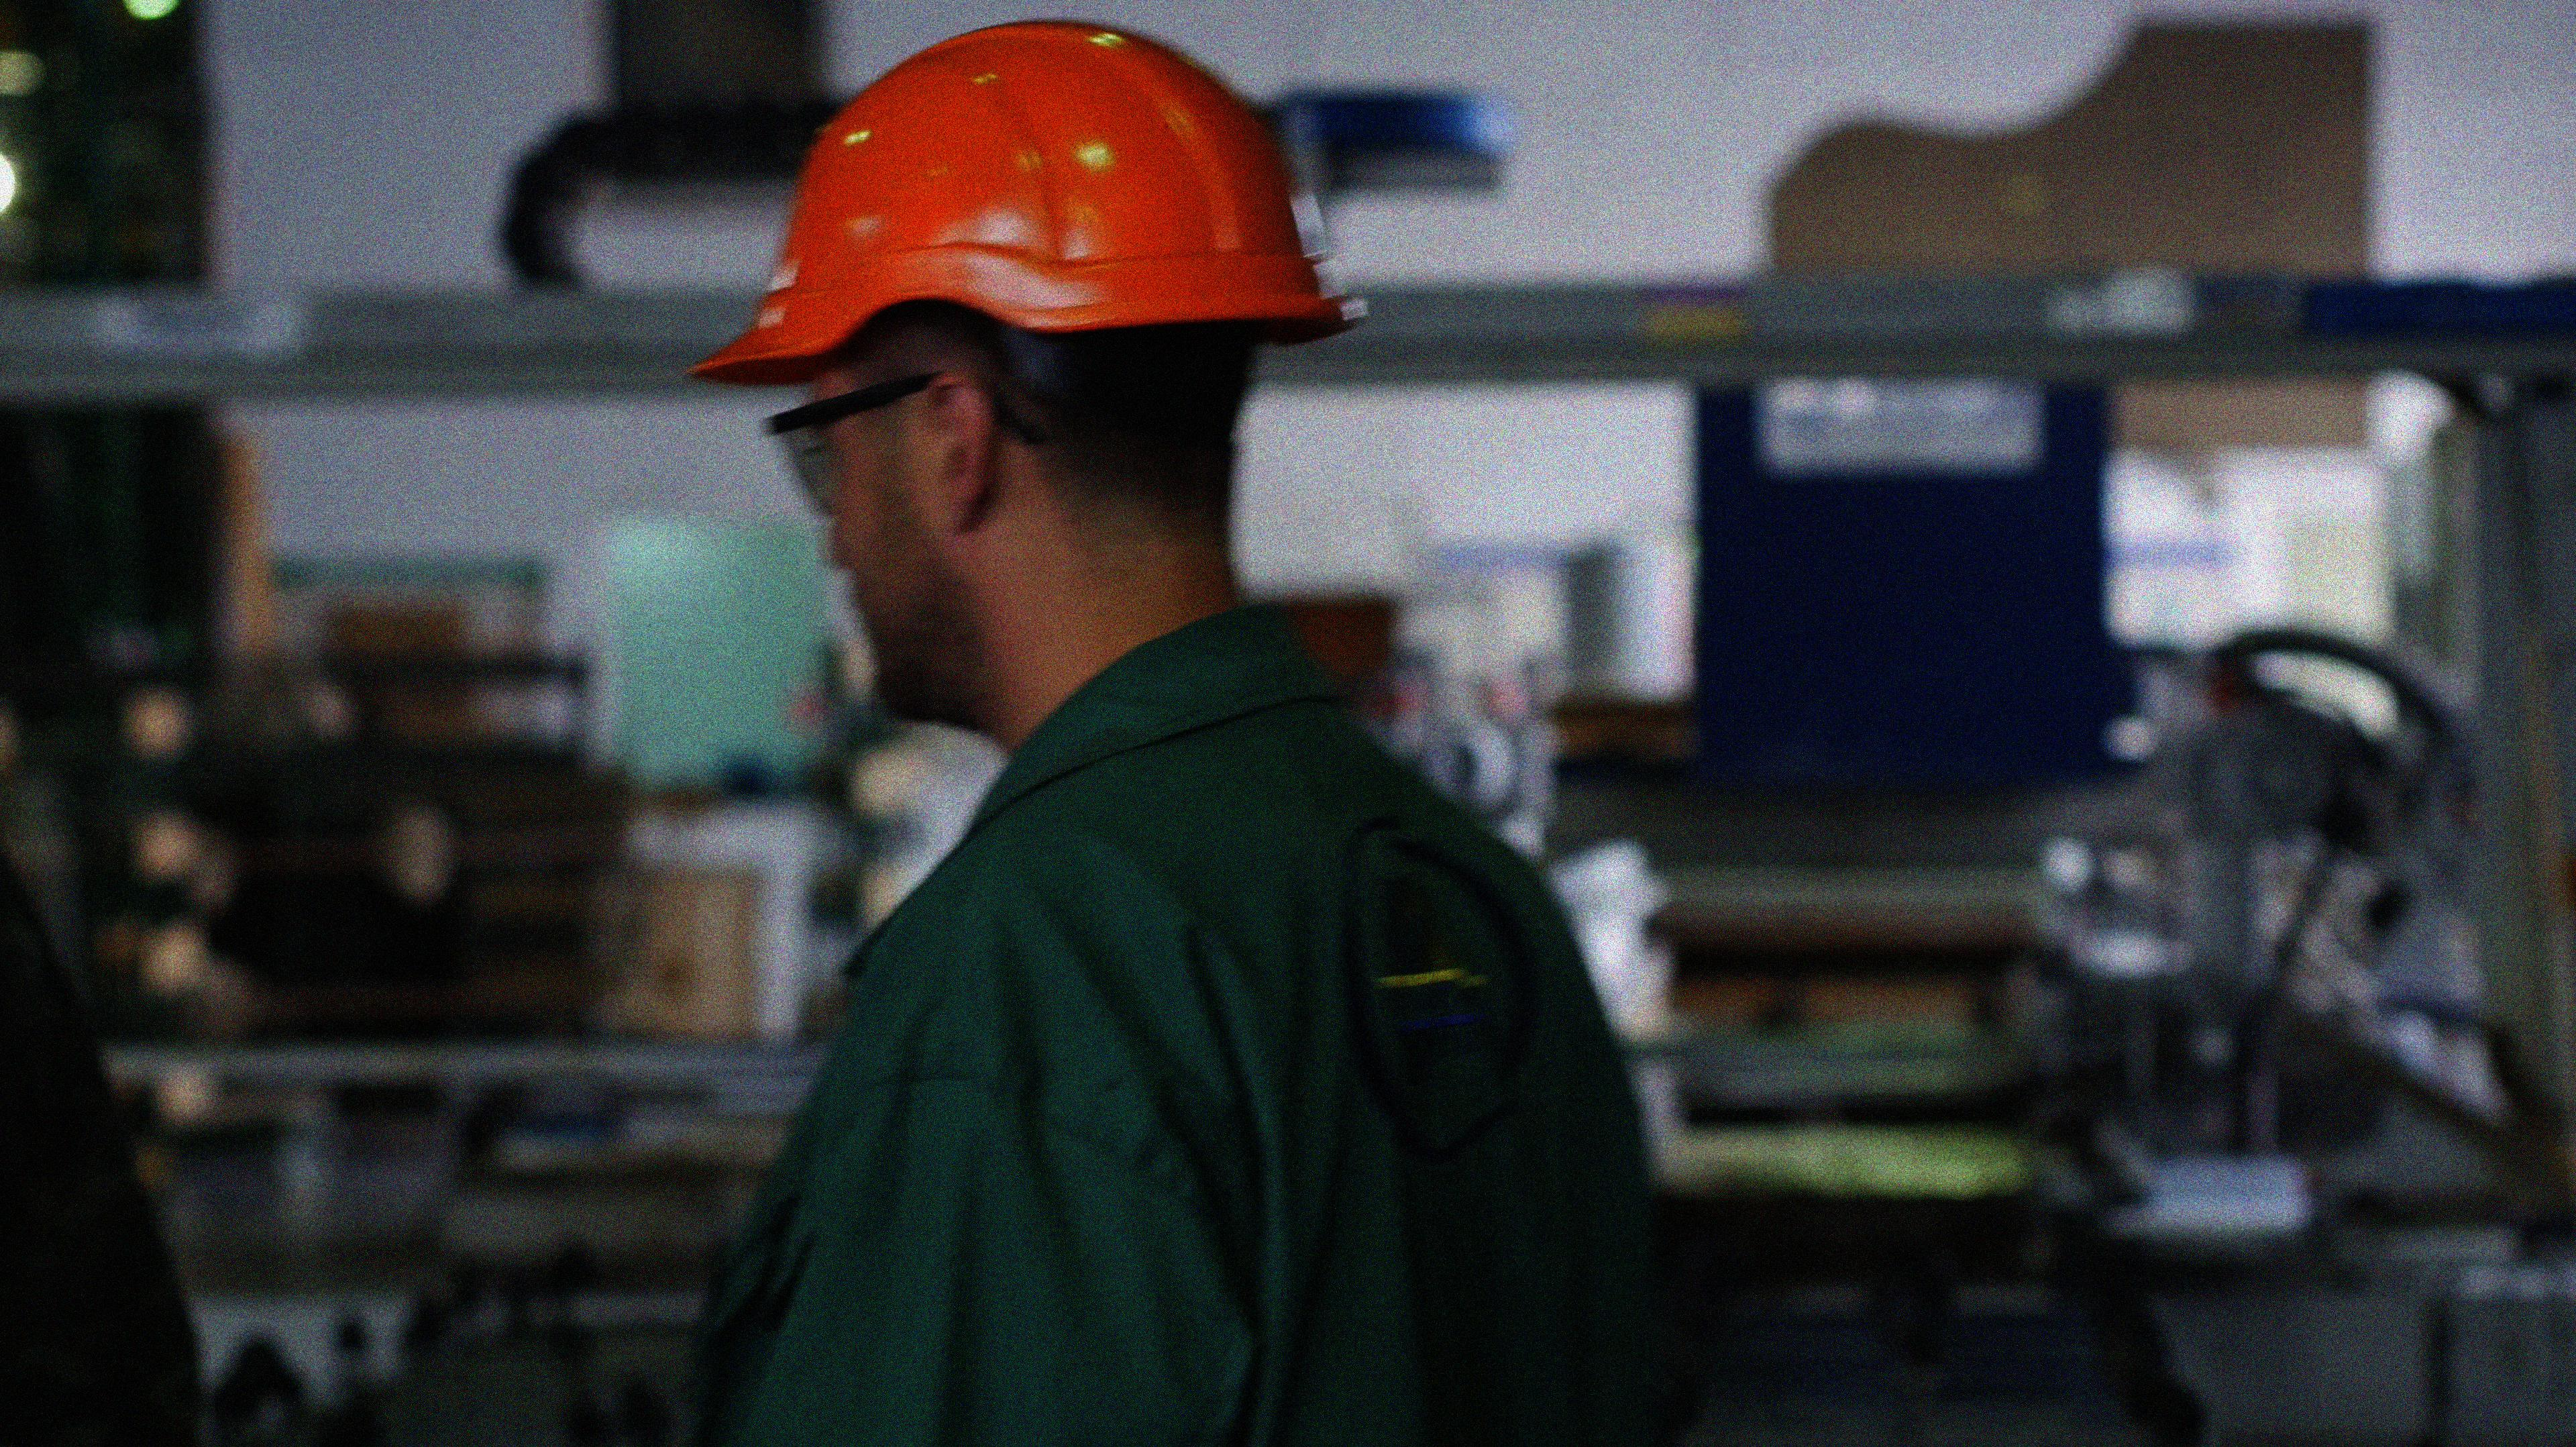helmet: (686, 11, 1368, 734)
